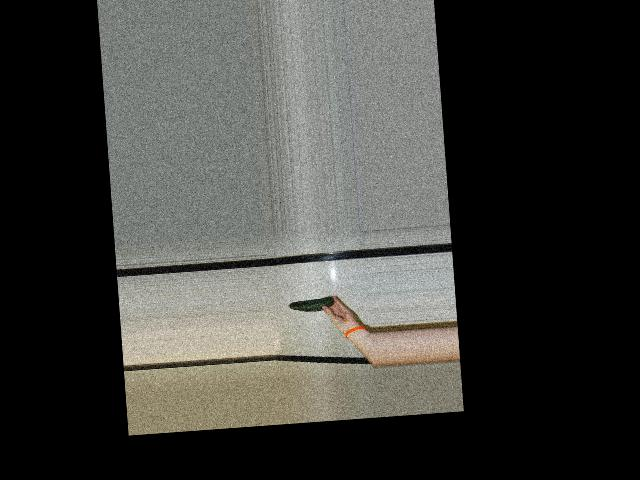cucumber: (288, 295, 335, 312)
